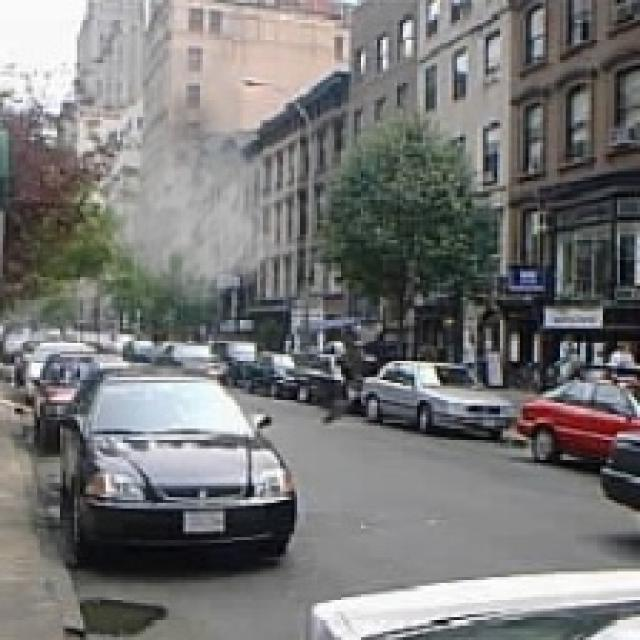smoke: (89, 25, 294, 308)
